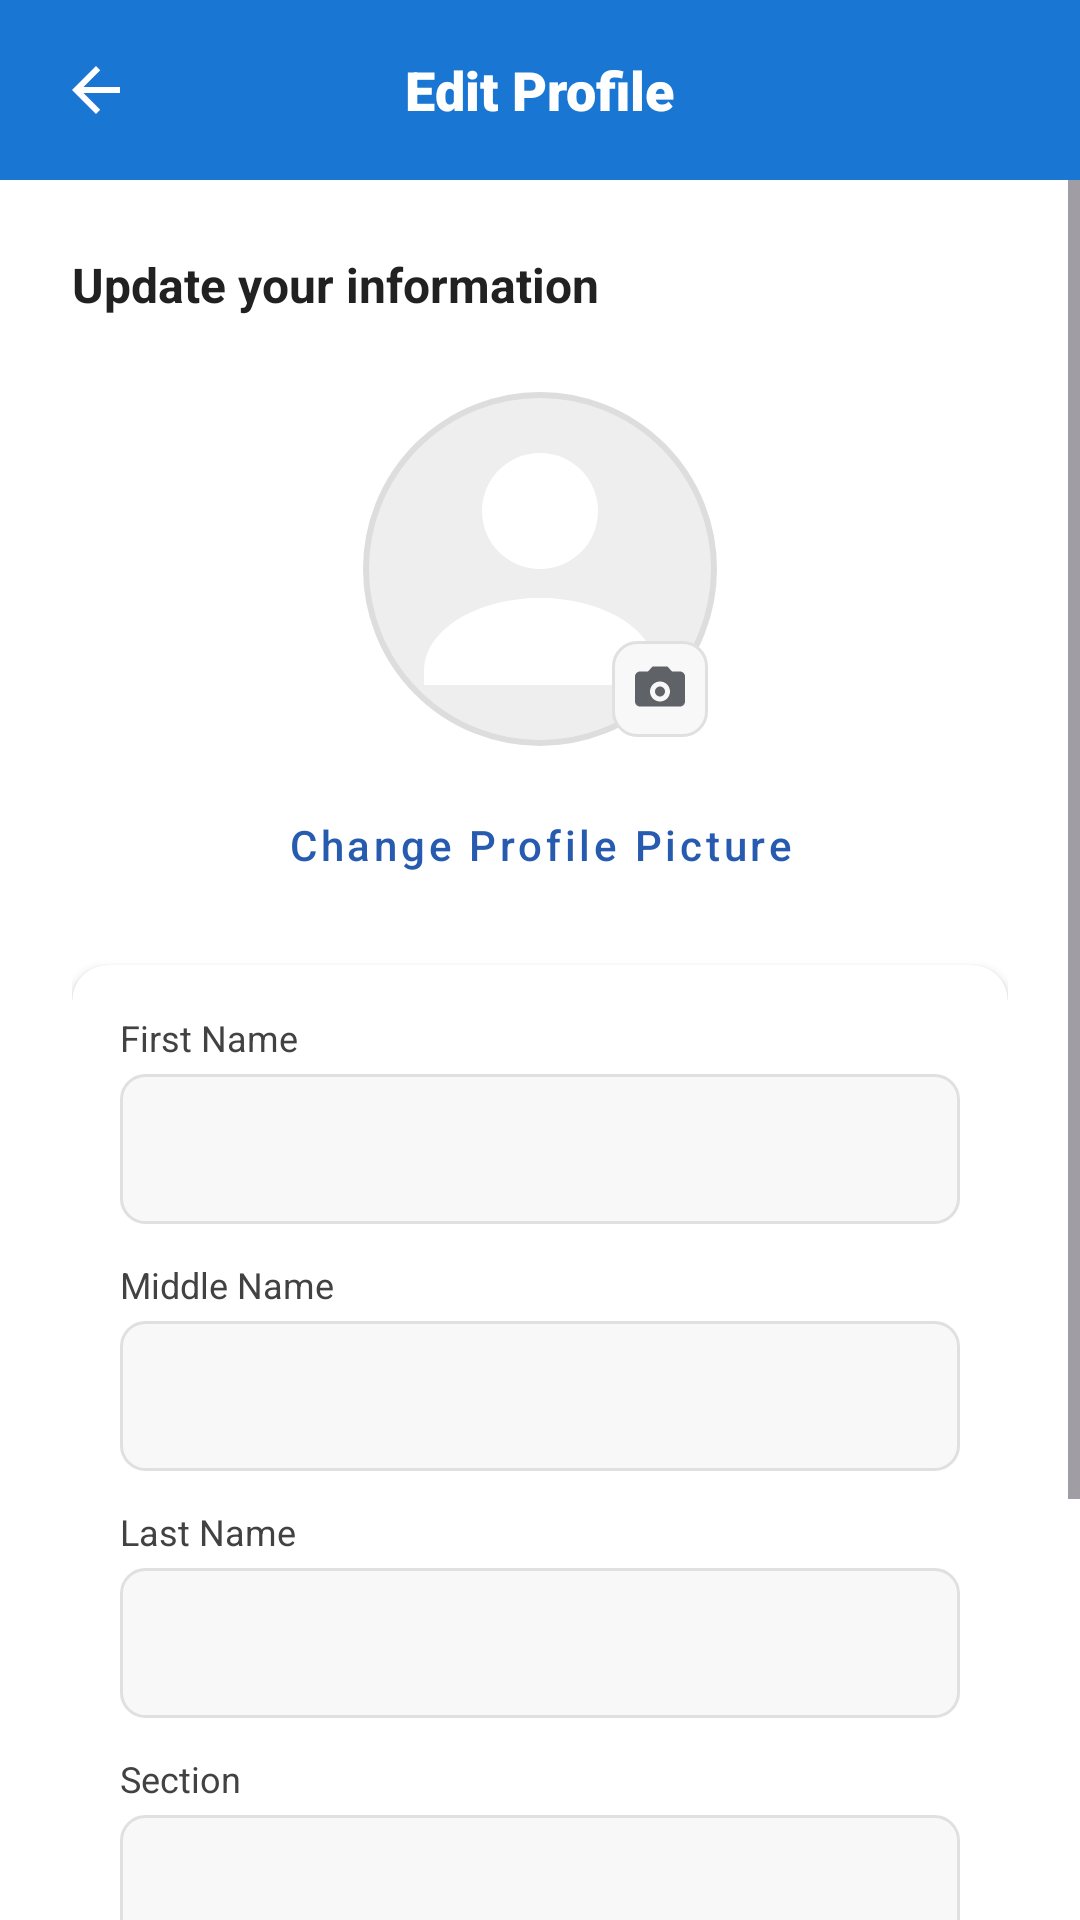

Screen size 1080px×1920px. Icon name, then its box in pixels as [left=x1, top=y1, right=x2, bottom=y2]:
arrow back: [left=72, top=66, right=120, bottom=114]
